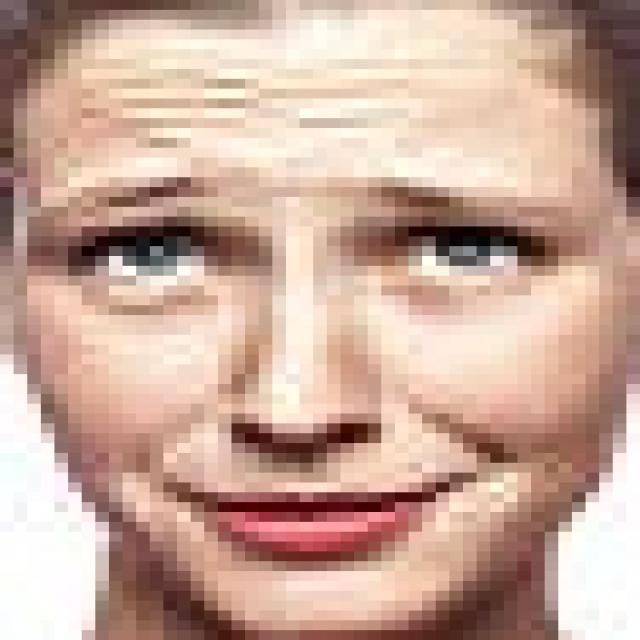Anxiety: (7, 5, 626, 630)
